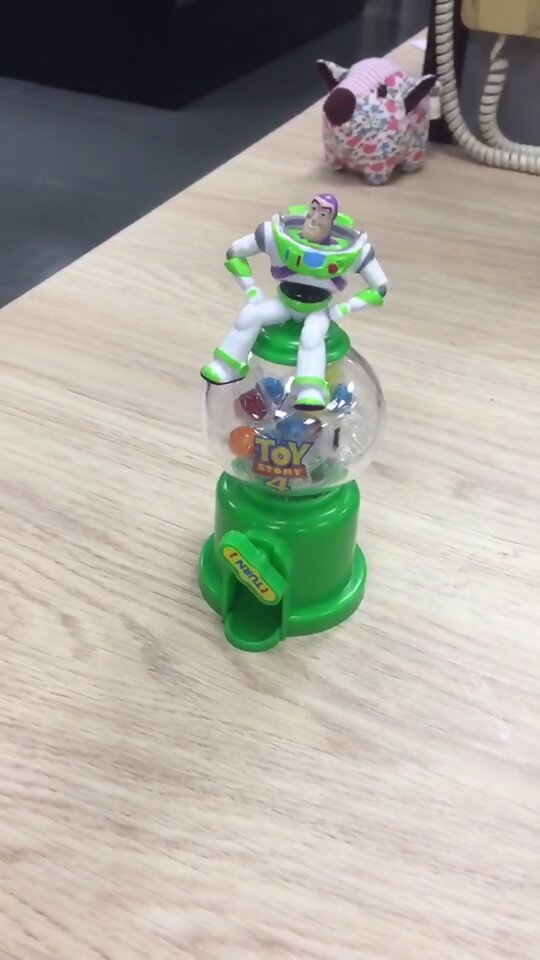buzz: (194, 191, 393, 655)
